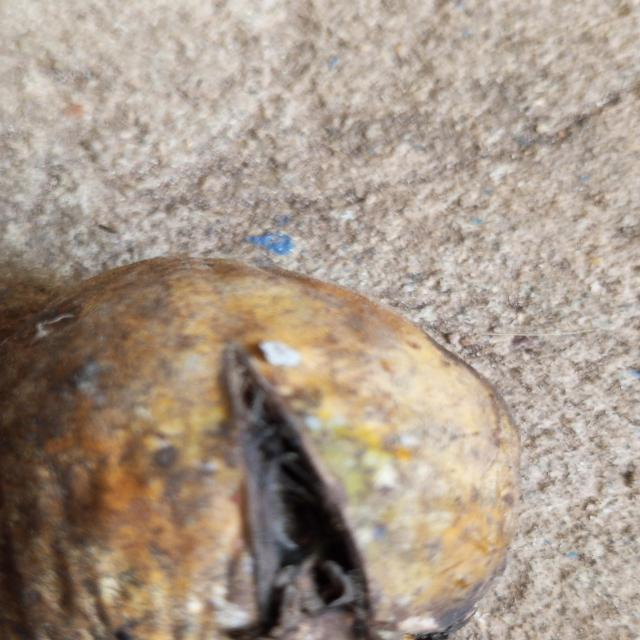damaged: (0, 258, 519, 640)
